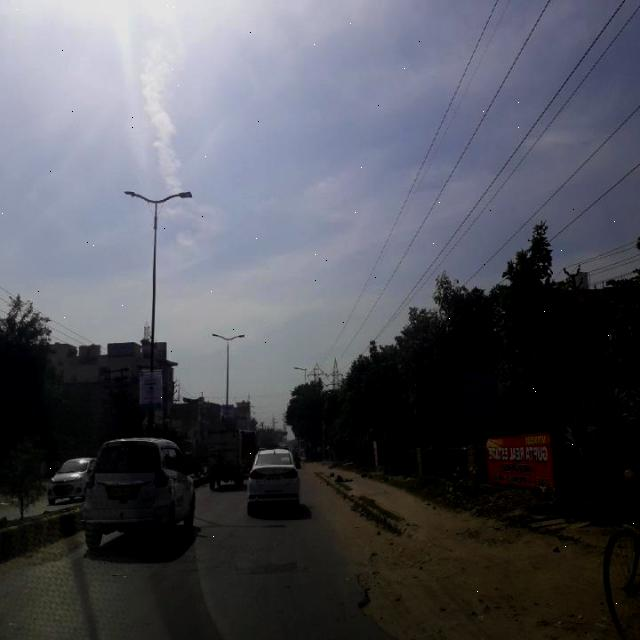D40: (347, 540, 415, 634)
